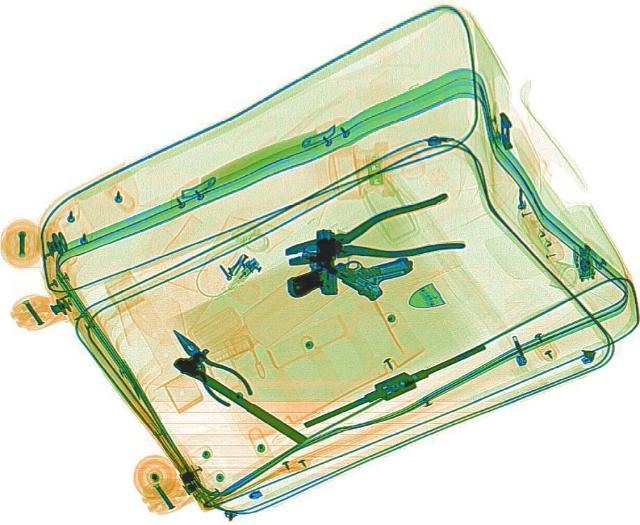Gun: (298, 218, 417, 303), (282, 226, 338, 295)
Pliers: (275, 191, 469, 284), (154, 320, 256, 408)
